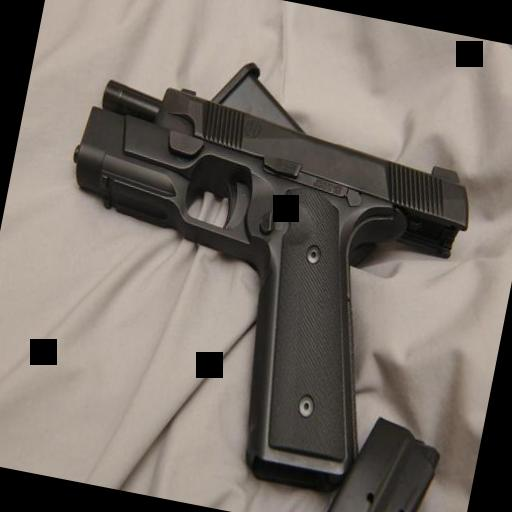Handgun: (16, 68, 484, 512)
